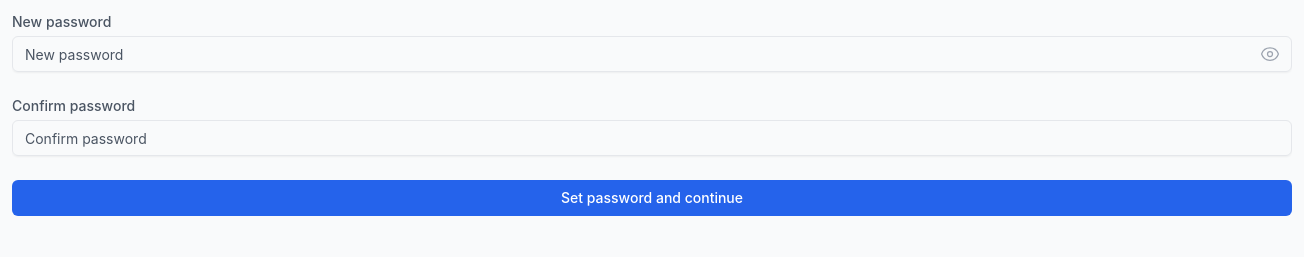
Test: SetupForm › shows a validation error and does not submit when the password is empty
The width and height of the screenshot is (1304, 257).
Click the button "Set password and continue".
click(652, 198)  # box [12,180,1292,216]
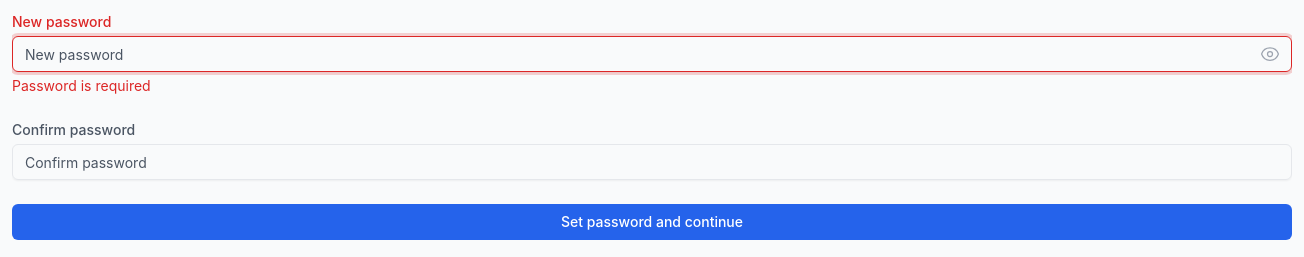
Check: the text "Password is required" is shown, box [12,77,151,94]
